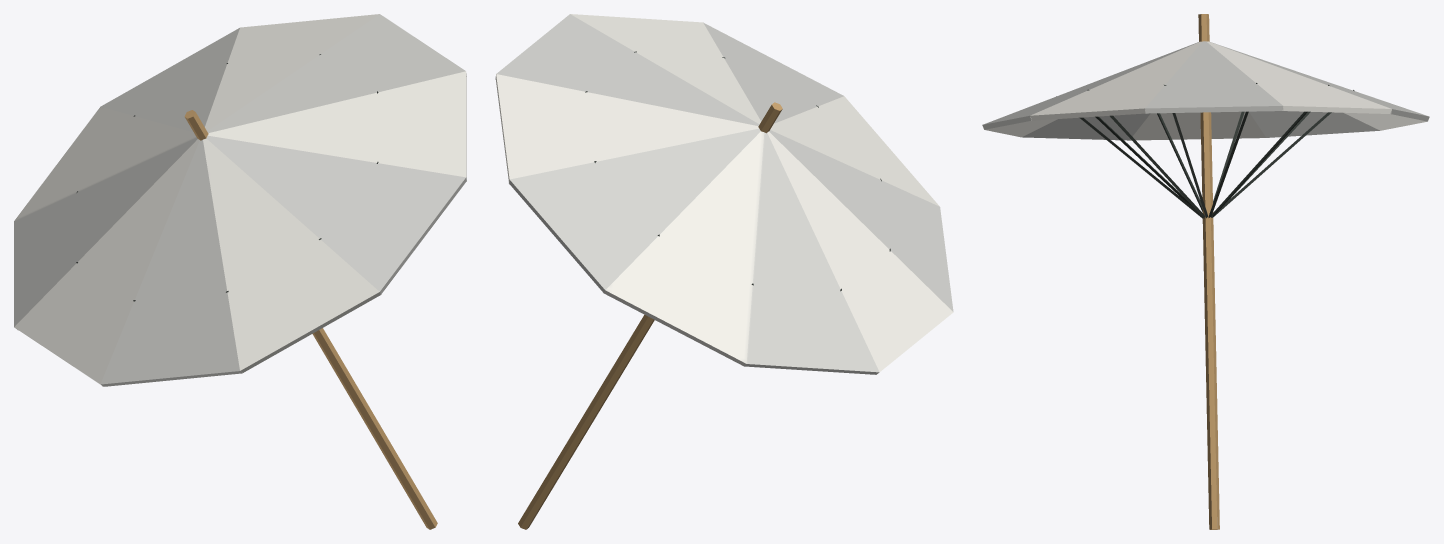
File: slunecnik_50b40b50.glb
The picture shows the model from 3 angles, left to right: view 1: azimuth 30°, elevation 25°; view 2: azimuth 150°, elevation 25°; view 3: azimuth 270°, elevation 25°; orthographic projection. The views are drawn at different scales.
Visible parts, largest first — view 1: dum; view 2: dum; view 3: dum.
Part boxes in pixels (x1,y1,x2,y2): dum: (14,14,466,529); dum: (495,14,953,529); dum: (982,14,1429,529).
Bounding box in the file's own units: 1.82 × 2.17 × 2.09.
1 material, 1 textured.
